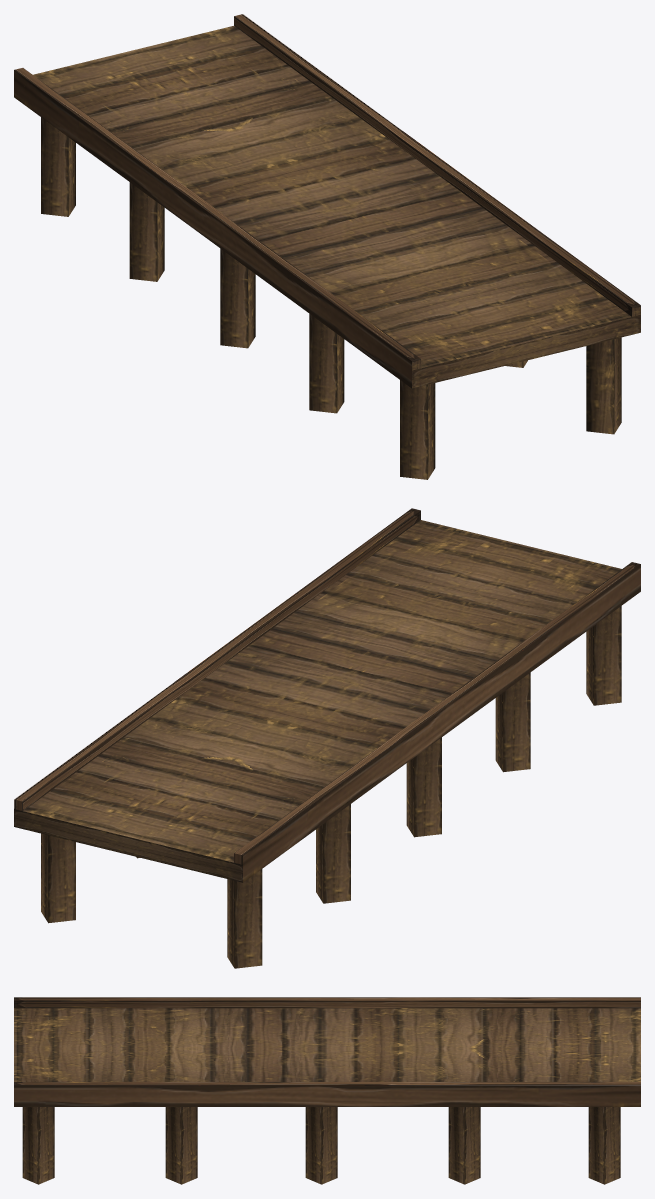
File: Deck_03.FBX
The picture shows the model from 3 angles, top to bottom: view 1: azimuth 30°, elevation 25°; view 2: azimuth 150°, elevation 25°; view 3: azimuth 270°, elevation 25°; orthographic projection. The views are drawn at different scales.
Visible parts, largest first — view 1: Deck_03; view 2: Deck_03; view 3: Deck_03.
Part boxes in pixels (left/top/right/bottom): Deck_03: left=14, top=14, right=640, bottom=479; Deck_03: left=14, top=508, right=640, bottom=968; Deck_03: left=14, top=997, right=640, bottom=1184.
Size of the model in its own units: 2.03 by 6.1 by 1.08.
